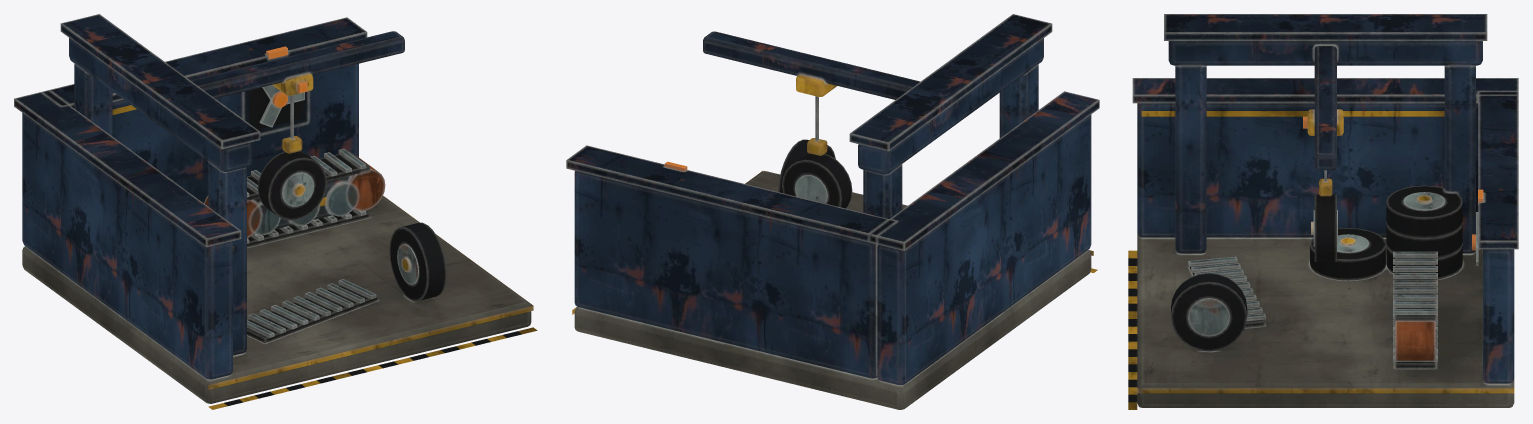
Rendered from drive_works.glb.
The picture shows the model from 3 angles, left to right: view 1: azimuth 30°, elevation 25°; view 2: azimuth 150°, elevation 25°; view 3: azimuth 270°, elevation 25°; orthographic projection.
Parts seen in each view (by area): view 1: te_drive_works, move_fan_1; view 2: te_drive_works; view 3: te_drive_works.
Part boxes in pixels (x1=…): te_drive_works: x1=14, y1=14, x2=537, y2=409; move_fan_1: x1=259, y1=85, x2=304, y2=127; te_drive_works: x1=566, y1=14, x2=1099, y2=409; te_drive_works: x1=1128, y1=14, x2=1518, y2=409.
Size of the model in its own units: 0.86 by 0.615 by 0.87.
1 material, 1 textured.
